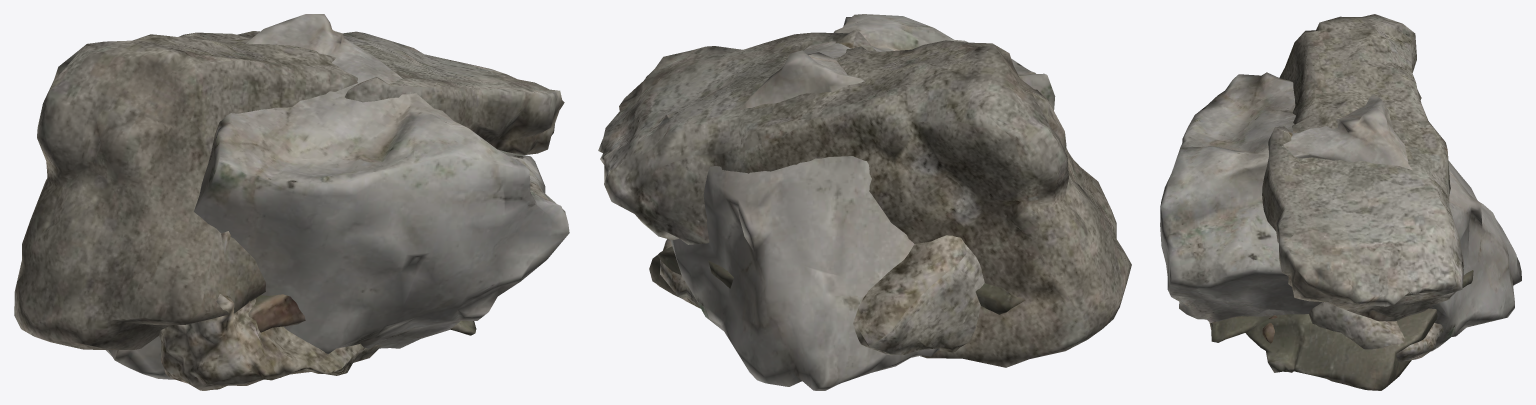
Rendered from namaqualand_stones_01.glb.
3 renders of one model, left to right at view 1: azimuth 30°, elevation 25°; view 2: azimuth 150°, elevation 25°; view 3: azimuth 270°, elevation 25°, orthographic. The views are drawn at different scales.
Visible parts, largest first — view 1: namaqualand_stones_01_b_LOD0, namaqualand_stones_01_e_LOD0, namaqualand_stones_01_c_LOD0, namaqualand_stones_01_d_LOD0; view 2: namaqualand_stones_01_b_LOD0, namaqualand_stones_01_e_LOD0, namaqualand_stones_01_c_LOD0, namaqualand_stones_01_d_LOD0; view 3: namaqualand_stones_01_b_LOD0, namaqualand_stones_01_e_LOD0, namaqualand_stones_01_d_LOD0, namaqualand_stones_01_c_LOD0.
Boxes of the visible parts, x1,y1,x2,y2 form: namaqualand_stones_01_b_LOD0: (14,31,564,349); namaqualand_stones_01_e_LOD0: (106,14,569,379); namaqualand_stones_01_c_LOD0: (159,231,381,390); namaqualand_stones_01_d_LOD0: (248,294,476,335); namaqualand_stones_01_b_LOD0: (598,29,1131,367); namaqualand_stones_01_e_LOD0: (670,14,1055,390); namaqualand_stones_01_c_LOD0: (660,235,984,355); namaqualand_stones_01_d_LOD0: (649,246,1025,314); namaqualand_stones_01_b_LOD0: (1262,14,1464,321); namaqualand_stones_01_e_LOD0: (1160,72,1521,351); namaqualand_stones_01_d_LOD0: (1209,270,1473,390); namaqualand_stones_01_c_LOD0: (1309,302,1443,361).
Size of what is drawn, in the model's own units: 0.1496 by 0.084 by 0.1117.
1 material, 1 textured.
